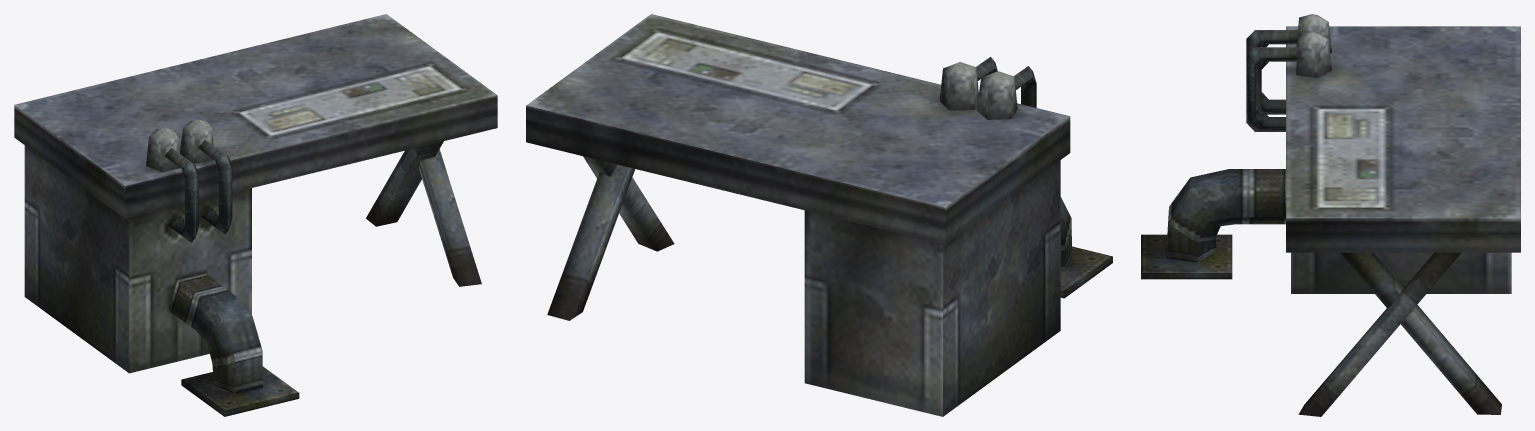
The model's file is lab-desk.glb.
3 renders of one model, left to right at view 1: azimuth 30°, elevation 25°; view 2: azimuth 150°, elevation 25°; view 3: azimuth 270°, elevation 25°, orthographic. The views are drawn at different scales.
Parts seen in each view (by area): view 1: Object1206; view 2: Object1206; view 3: Object1206.
Boxes of the visible parts, x1=… form: Object1206: x1=14, y1=14, x2=497, y2=416; Object1206: x1=526, y1=14, x2=1112, y2=416; Object1206: x1=1141, y1=14, x2=1520, y2=416.
Size of the model in its own units: 0.0388 by 0.0227 by 0.0325.
Materials: 1 (1 with a texture image).
